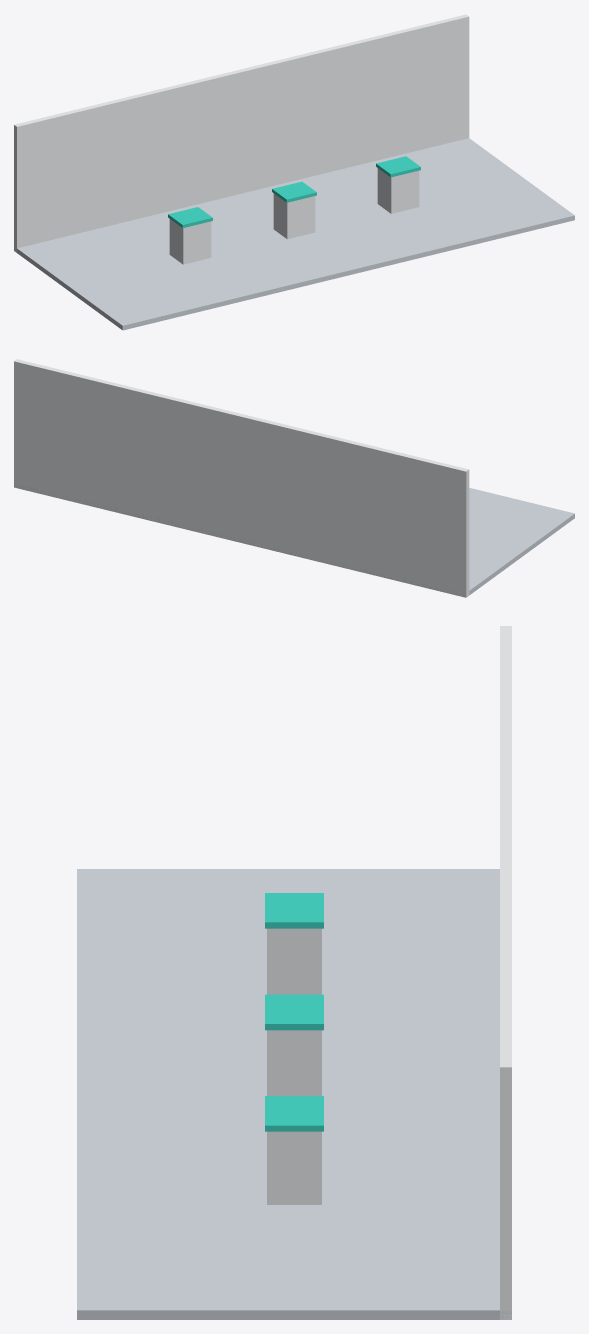
3 views of the same model, one above another, from view 1: azimuth 30°, elevation 25°; view 2: azimuth 150°, elevation 25°; view 3: azimuth 270°, elevation 25° (orthographic). The views are drawn at different scales.
Visible parts, largest first — view 1: Exhibition Booth Concept; view 2: Exhibition Booth Concept; view 3: Exhibition Booth Concept.
Part boxes in pixels (box(x1,y1,x2,y2)): Exhibition Booth Concept: box(14, 14, 574, 330); Exhibition Booth Concept: box(14, 359, 574, 597); Exhibition Booth Concept: box(77, 626, 511, 1319).
Size of the model in its own units: 12 by 3.2 by 5.
